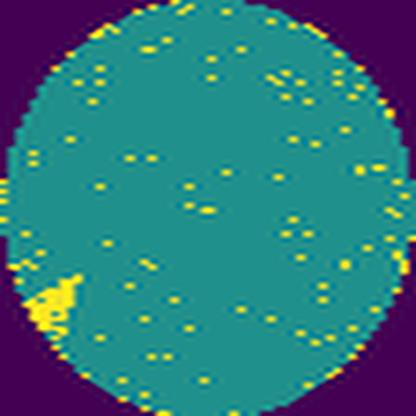Edge-Loc: (24, 270, 87, 336)
